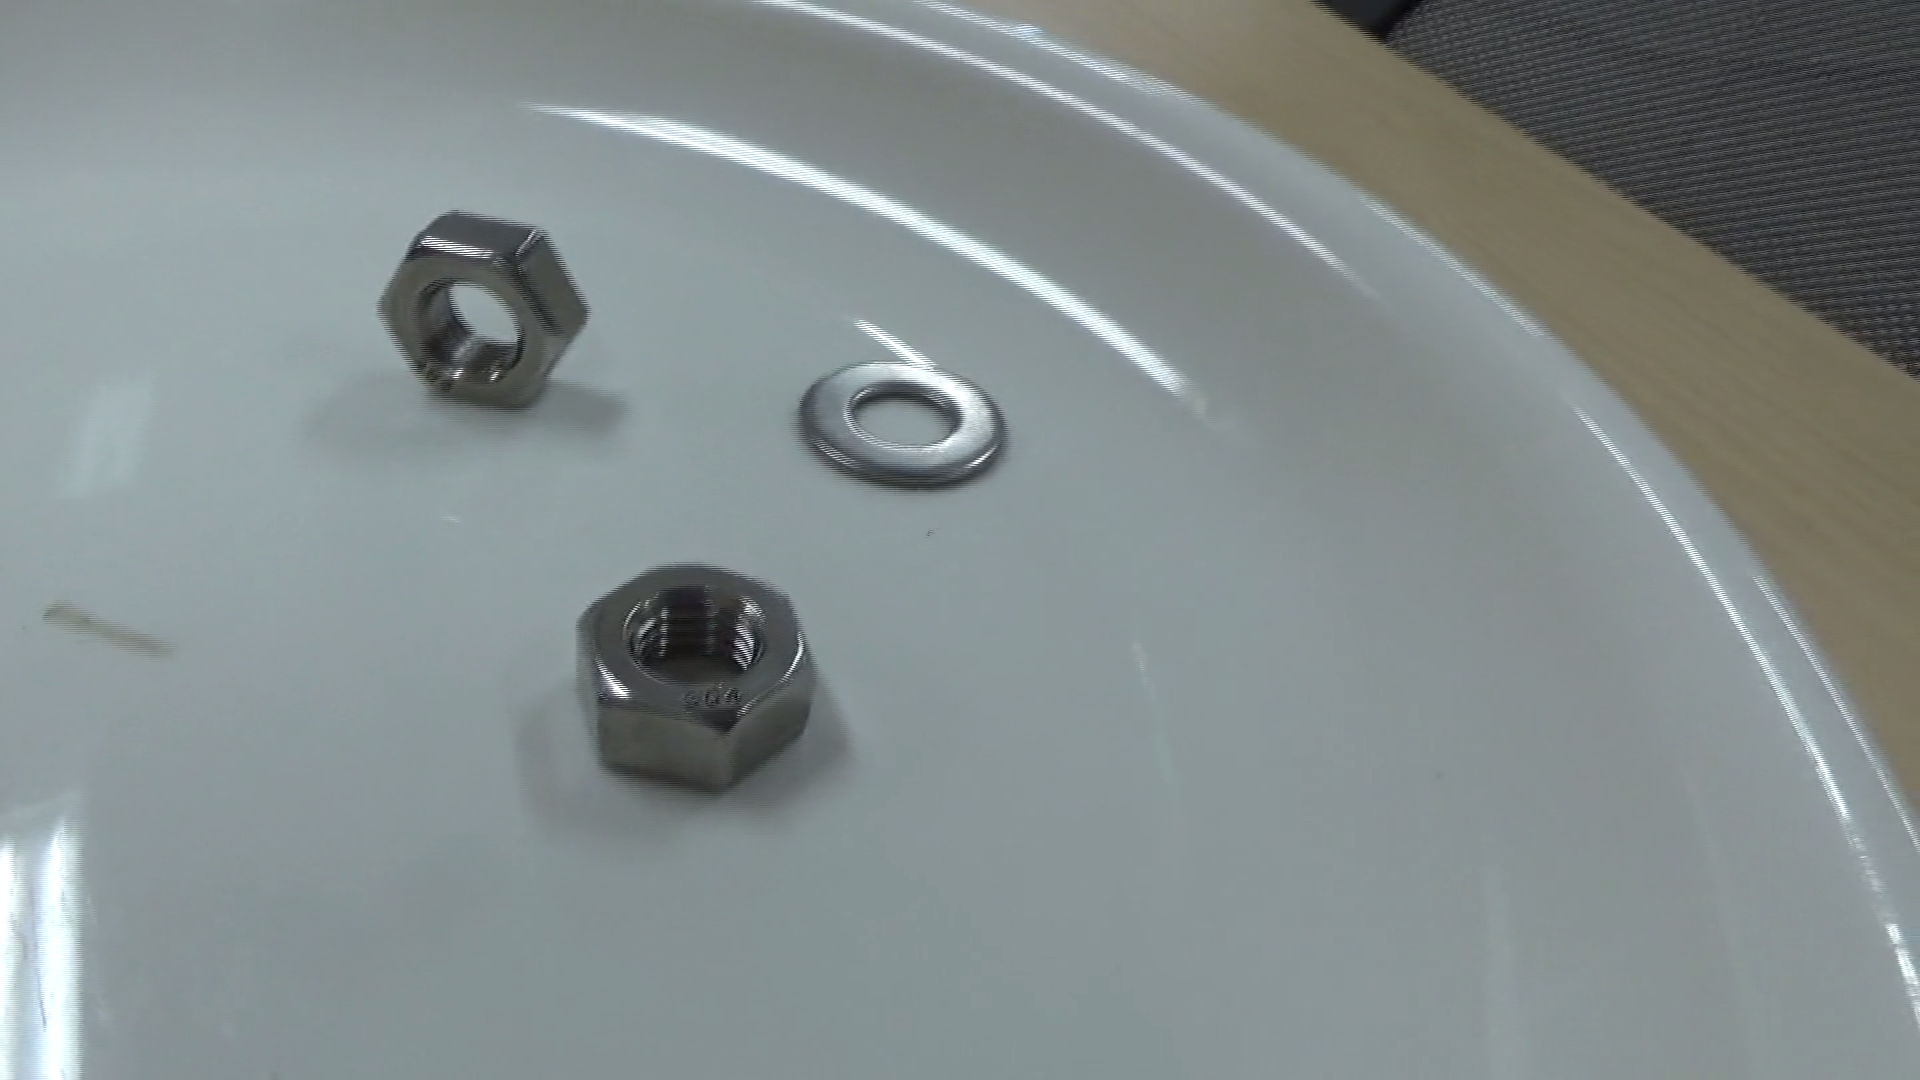nut: (568, 555, 818, 793), (371, 204, 589, 409)
washer: (791, 353, 1006, 493)
